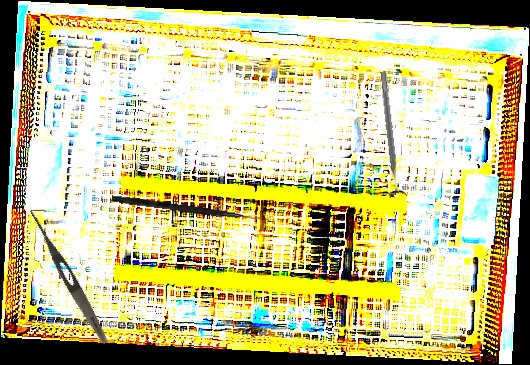Dressing Forceps: (23, 207, 113, 347)
Fixation Ring: (373, 70, 409, 198)
Hook Surgical: (111, 195, 270, 223)
